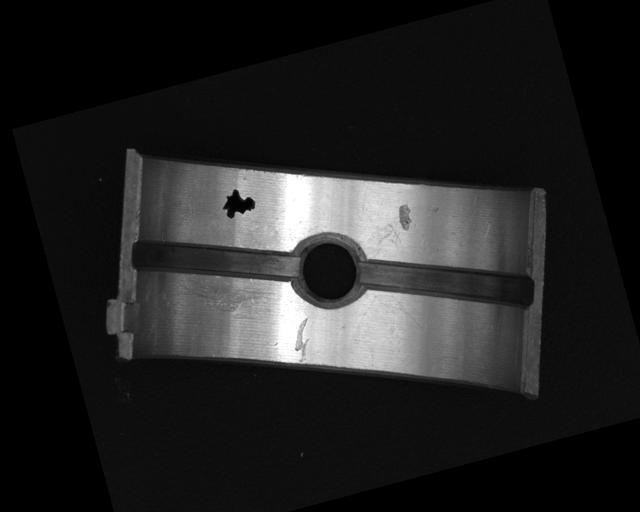blot: (218, 183, 258, 220)
bruise: (395, 202, 416, 232)
gap: (355, 221, 536, 345), (129, 203, 299, 313)
hole: (285, 228, 367, 311)
nick: (287, 316, 320, 364)
scratch: (175, 258, 277, 328)
